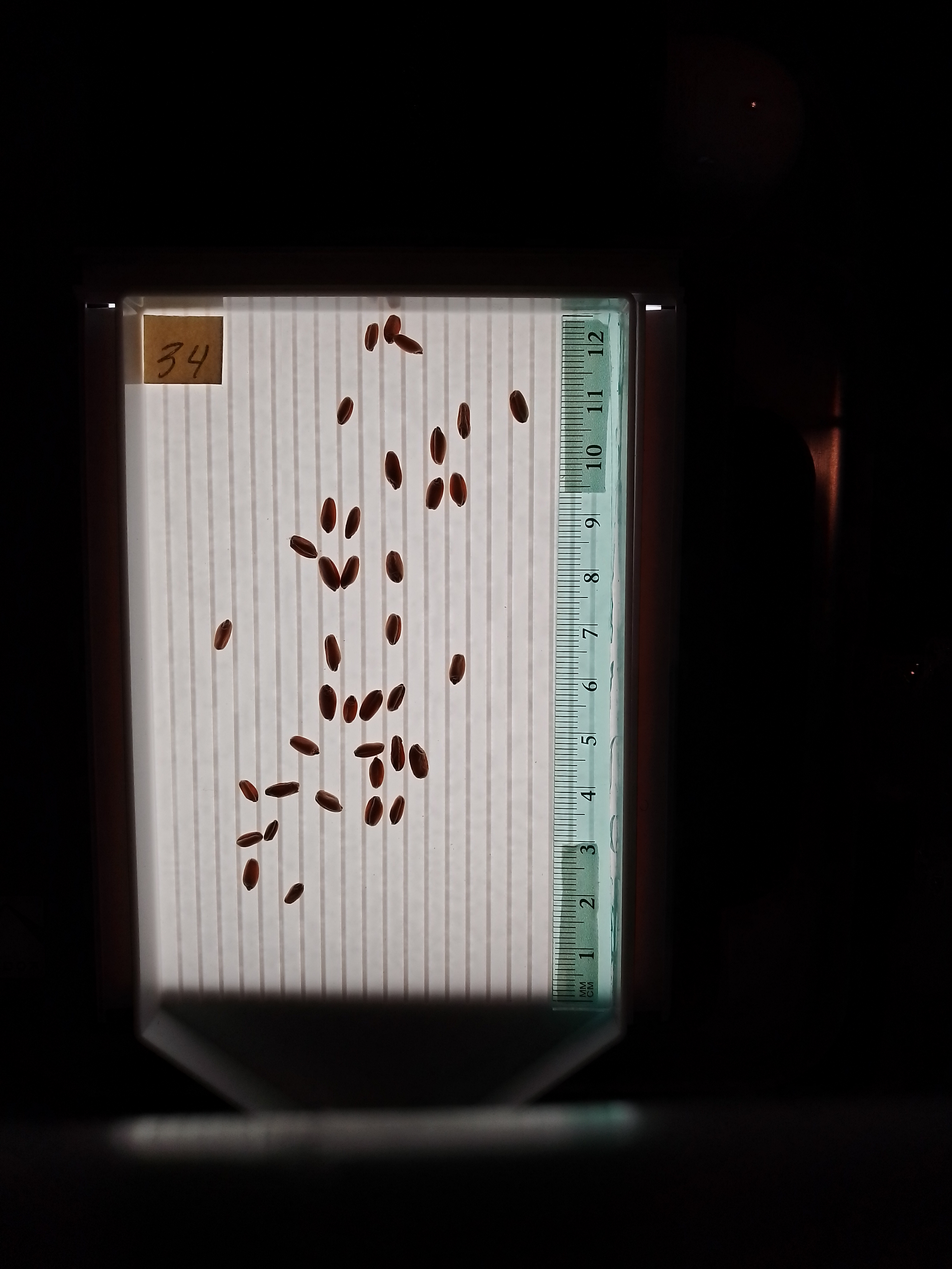seed mask: (320, 557, 342, 590), (360, 690, 383, 721), (409, 745, 429, 778), (425, 478, 445, 510), (290, 536, 317, 559), (385, 453, 402, 489), (509, 391, 528, 423), (430, 427, 446, 465), (291, 735, 319, 756), (449, 474, 467, 506), (341, 556, 359, 588), (325, 635, 341, 671), (321, 498, 337, 533), (320, 685, 336, 719), (395, 334, 422, 354), (265, 782, 298, 798), (316, 791, 341, 812), (214, 621, 232, 650), (365, 797, 383, 826), (387, 552, 403, 583), (449, 655, 466, 684), (391, 736, 405, 771), (243, 860, 259, 890), (384, 315, 401, 343), (387, 685, 405, 711), (345, 507, 360, 538), (369, 759, 385, 788), (457, 403, 470, 438), (386, 615, 401, 645), (337, 398, 354, 424), (355, 743, 383, 758), (284, 883, 304, 904), (237, 832, 262, 848), (239, 781, 259, 801), (365, 324, 379, 351), (343, 696, 357, 722), (390, 797, 404, 823), (264, 822, 278, 841)
